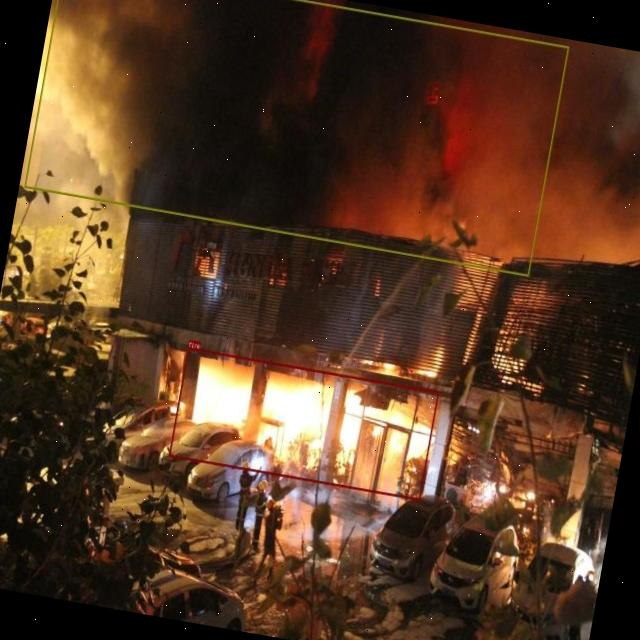fire: (168, 346, 438, 500)
smoke: (23, 0, 568, 275)
